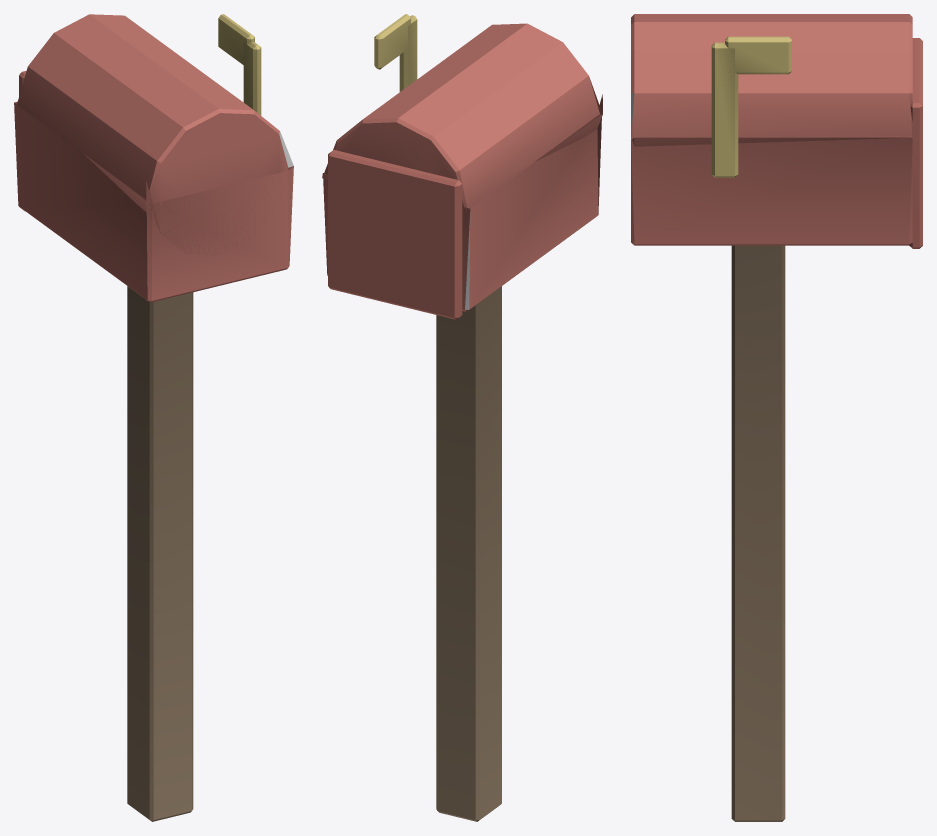
Rendered from mailbox.glb.
3 renders of one model, left to right at view 1: azimuth 30°, elevation 25°; view 2: azimuth 150°, elevation 25°; view 3: azimuth 270°, elevation 25°, orthographic. The views are drawn at different scales.
Bounding box in the file's own units: 0.2827 × 1.34 × 0.435.
